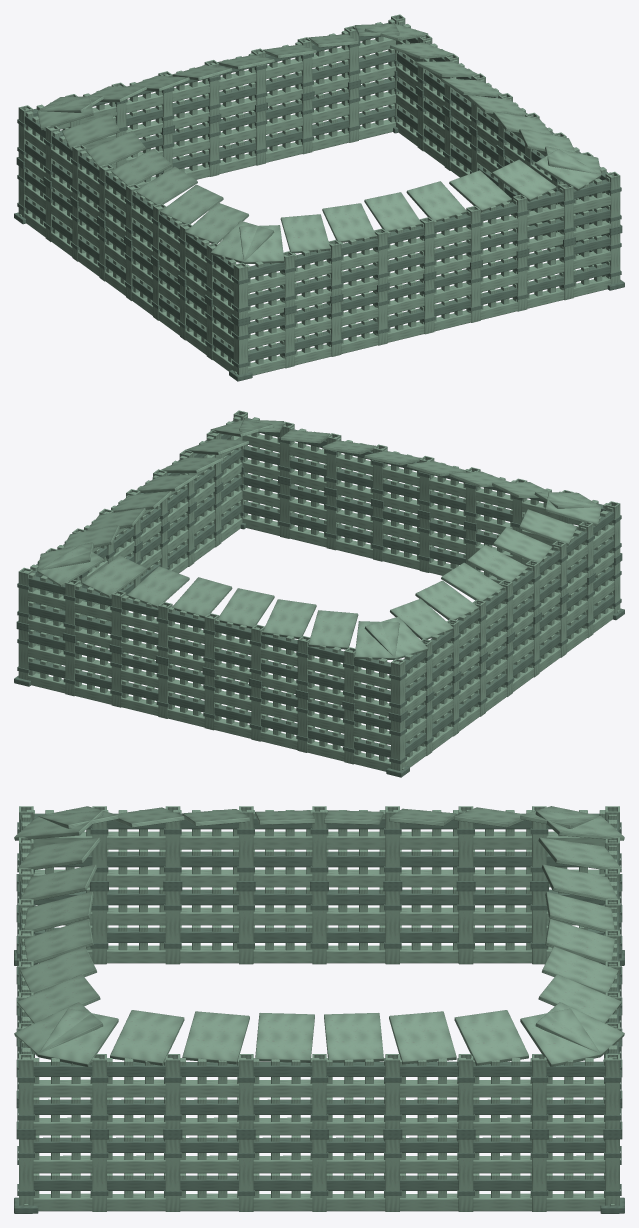
3 views of the same model, one above another, from view 1: azimuth 30°, elevation 25°; view 2: azimuth 150°, elevation 25°; view 3: azimuth 270°, elevation 25° (orthographic). The views are drawn at different scales.
Visible parts, largest first — view 1: Crown alloy petal 0-1, Crown alloy petal 0-2, Crown alloy petal 0-3, Crown alloy petal 0-4, Crown alloy petal 3-6, Crown alloy petal 0-5, Crown alloy petal 0-6, Crown alloy petal 3-5, Crown alloy petal 3-4, Crown alloy petal 0-0, Crown alloy petal 3-3, Crown alloy petal 3-7 (+31 smaller); view 2: Crown alloy petal 2-6, Crown alloy petal 2-5, Crown alloy petal 2-4, Crown alloy petal 2-3, Crown alloy petal 3-1, Crown alloy petal 2-2, Crown alloy petal 2-1, Crown alloy petal 3-2, Crown alloy petal 3-3, Crown alloy petal 2-7, Crown alloy petal 3-4, Crown alloy petal 3-0 (+29 smaller); view 3: Crown alloy petal 1-1, Crown alloy petal 1-6, Crown alloy petal 1-5, Crown alloy petal 1-2, Crown alloy petal 1-4, Crown alloy petal 1-3, Crown alloy petal 1-7, Crown alloy petal 1-0, Crown alloy petal 2-1, Crown alloy petal 0-6, Crown alloy petal 2-2, Crown alloy petal 0-5 (+158 smaller).
Boxes of the visible parts, x1,y1,x2,y2 form: Crown alloy petal 0-1: (280,214,330,253); Crown alloy petal 0-2: (322,203,376,242); Crown alloy petal 0-3: (364,192,421,231); Crown alloy petal 0-4: (406,181,466,221); Crown alloy petal 3-6: (185,202,248,243); Crown alloy petal 0-5: (449,170,511,212); Crown alloy petal 0-6: (492,159,556,201); Crown alloy petal 3-5: (160,184,223,224); Crown alloy petal 3-4: (135,166,197,204); Crown alloy petal 0-0: (239,225,284,264); Crown alloy petal 3-3: (111,148,171,185); Crown alloy petal 3-7: (210,220,274,262); Crown alloy petal 2-6: (308,610,358,649); Crown alloy petal 2-5: (262,599,316,638); Crown alloy petal 2-4: (217,588,274,628); Crown alloy petal 2-3: (172,577,232,618); Crown alloy petal 3-1: (390,598,453,639); Crown alloy petal 2-2: (127,566,189,608); Crown alloy petal 2-1: (82,555,146,597); Crown alloy petal 3-2: (415,580,478,620); Crown alloy petal 3-3: (441,562,503,600); Crown alloy petal 2-7: (354,621,399,660); Crown alloy petal 3-4: (467,544,527,581); Crown alloy petal 3-0: (364,616,428,658); Crown alloy petal 1-1: (110,1010,184,1065); Crown alloy petal 1-6: (454,1010,528,1065); Crown alloy petal 1-5: (389,1011,456,1064); Crown alloy petal 1-2: (182,1011,249,1064); Crown alloy petal 1-4: (324,1013,383,1062); Crown alloy petal 1-3: (255,1013,314,1062); Crown alloy petal 1-7: (520,1008,601,1066); Crown alloy petal 1-0: (38,1008,118,1066); Crown alloy petal 2-1: (538,974,621,1023); Crown alloy petal 0-6: (17,974,100,1023); Crown alloy petal 2-2: (542,946,618,994); Crown alloy petal 0-5: (20,946,96,994).
Bounding box in the file's own units: 3.75 × 1.14 × 3.75.
2 materials, 2 textured.
